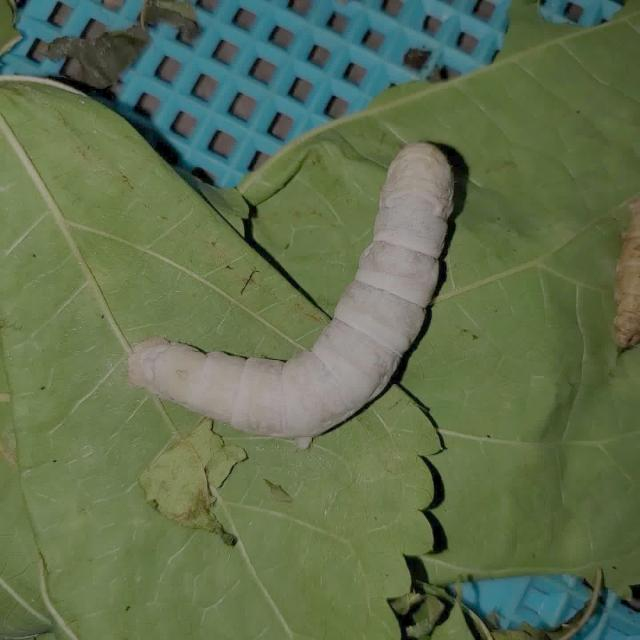Grasserie: (115, 118, 478, 486)
